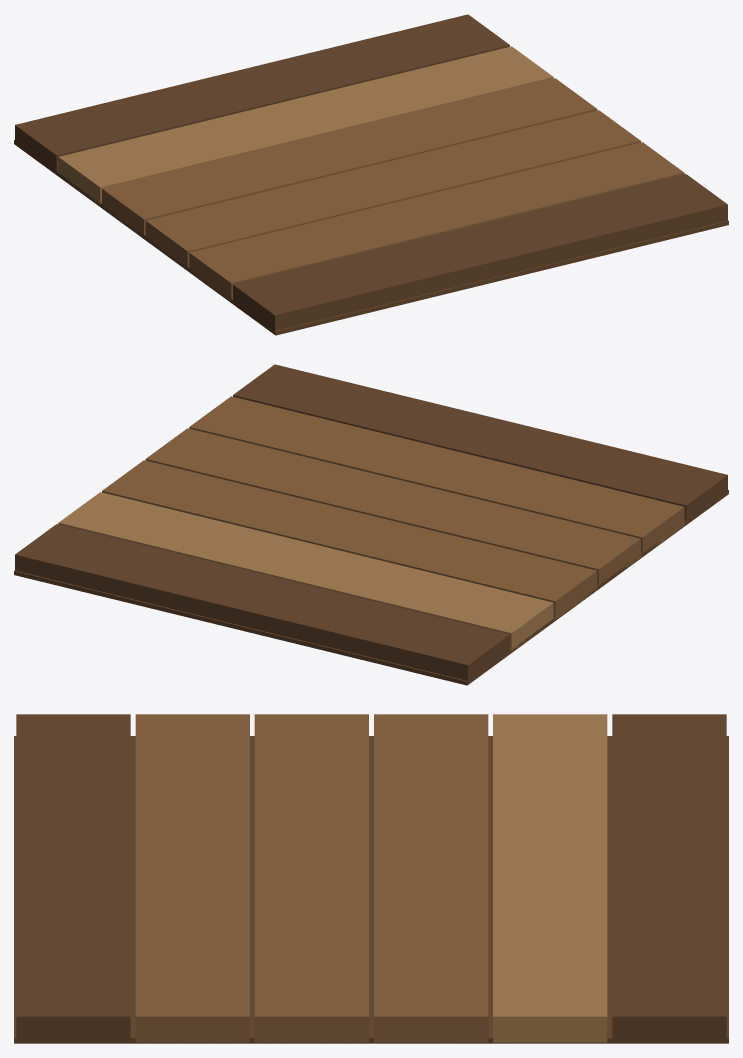
The model's file is SM_Bld_Floor_Ceiling_Wood_01.glb.
3 renders of one model, top to bottom at view 1: azimuth 30°, elevation 25°; view 2: azimuth 150°, elevation 25°; view 3: azimuth 270°, elevation 25°, orthographic. The views are drawn at different scales.
Parts seen in each view (by area): view 1: SM_Bld_Floor_Ceiling_Wood_01; view 2: SM_Bld_Floor_Ceiling_Wood_01; view 3: SM_Bld_Floor_Ceiling_Wood_01.
Boxes of the visible parts, box(x1,y1,x2,y2) form: SM_Bld_Floor_Ceiling_Wood_01: box(14, 14, 728, 335); SM_Bld_Floor_Ceiling_Wood_01: box(14, 364, 728, 685); SM_Bld_Floor_Ceiling_Wood_01: box(14, 714, 728, 1043).
Bounding box in the file's own units: 3 × 0.125 × 3.
1 material, 1 textured.
